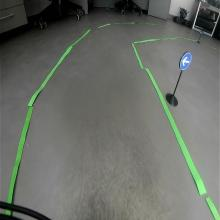left: (180, 52, 192, 71)
